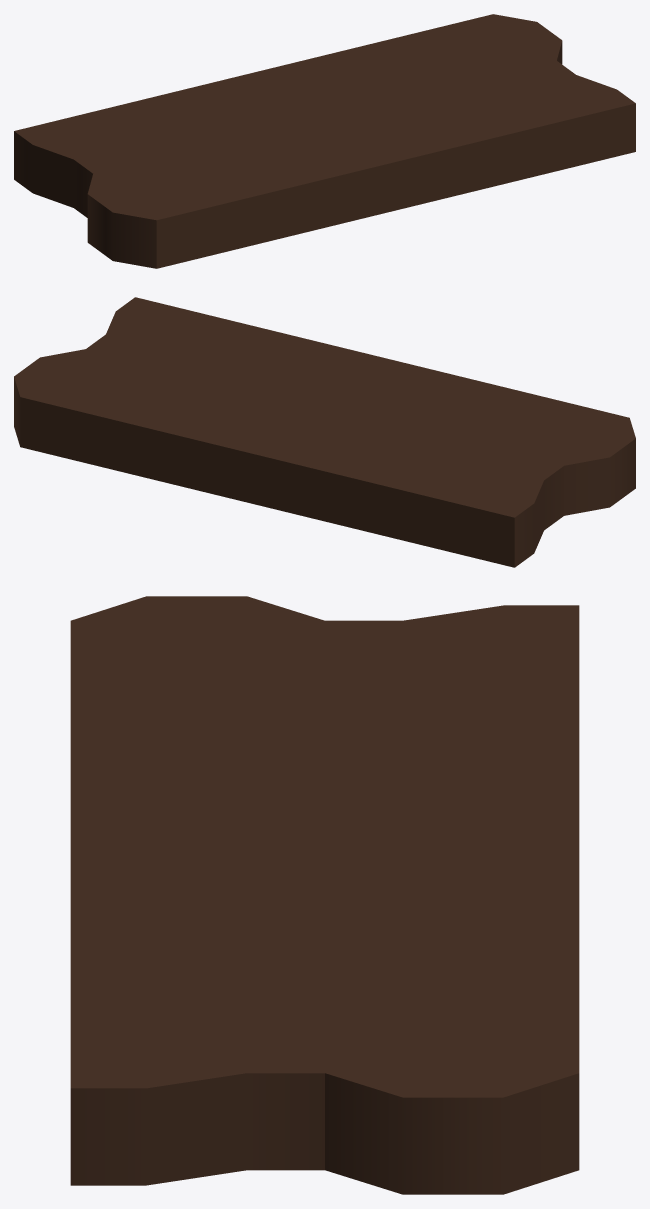
Rendered from MadeiraPassagem.fbx.
3 views of the same model, one above another, from view 1: azimuth 30°, elevation 25°; view 2: azimuth 150°, elevation 25°; view 3: azimuth 270°, elevation 25° (orthographic). The views are drawn at different scales.
Visible parts, largest first — view 1: Madeira6; view 2: Madeira6; view 3: Madeira6.
Part boxes in pixels (left/top/right/bottom): Madeira6: left=14, top=14, right=635, bottom=268; Madeira6: left=14, top=297, right=635, bottom=567; Madeira6: left=70, top=596, right=579, bottom=1194.
Size of the model in its own units: 377 by 34.09 by 162.
